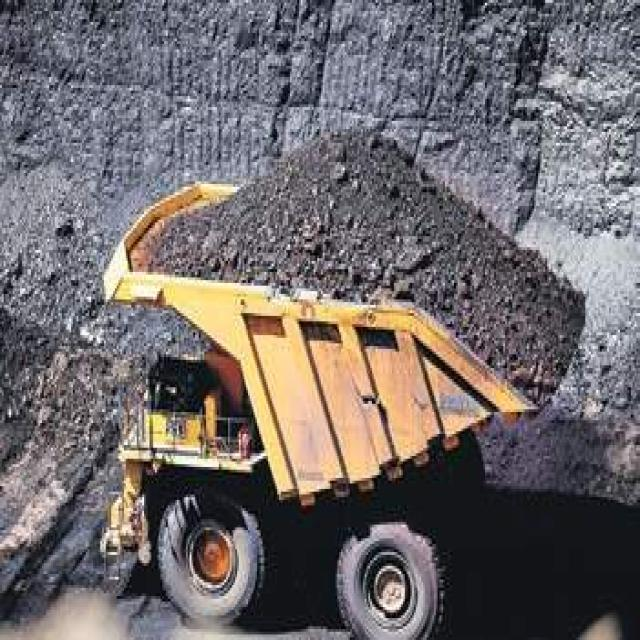dump_truck: (96, 130, 594, 637)
